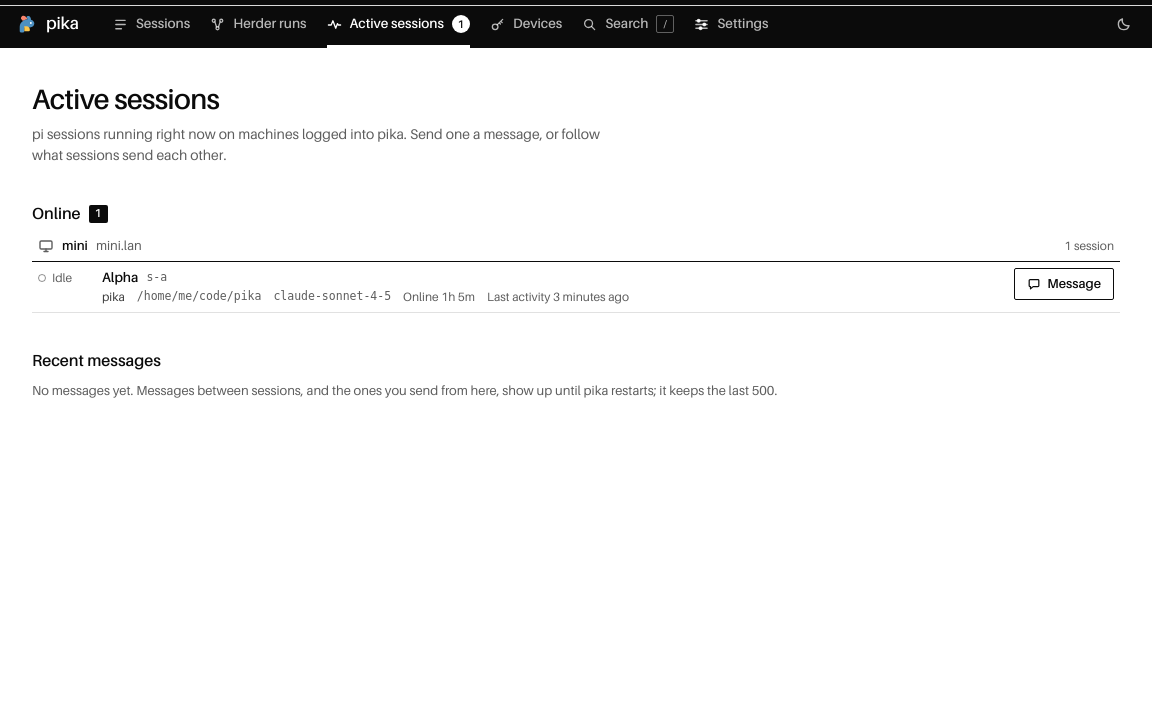
Test: message composer › sends with Ctrl+Enter and shows that the message was delivered
The width and height of the screenshot is (1152, 720).
Click the button with aria-label "Message Alpha" at [1064, 284], box [1014, 268, 1114, 300]
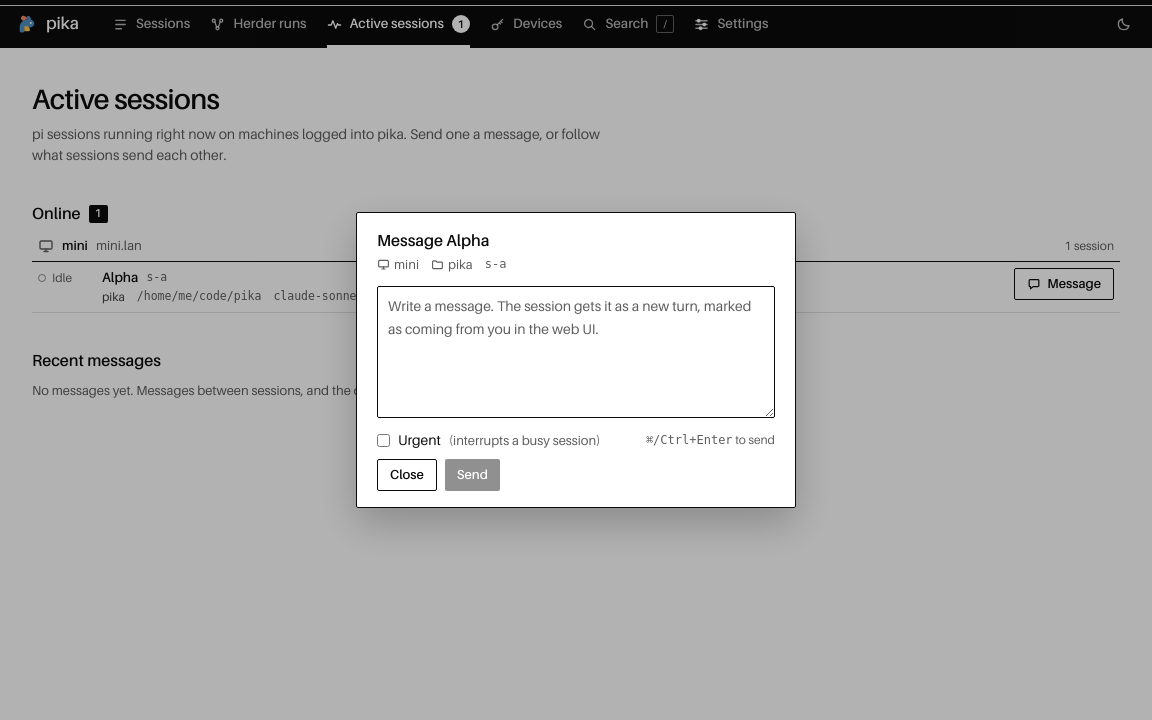
expect the button "Send" is disabled: met, box [445, 459, 500, 491]
Replace the text in the text box named "Message text" with "Please rebase onto main." at [576, 352], box [377, 286, 775, 418]
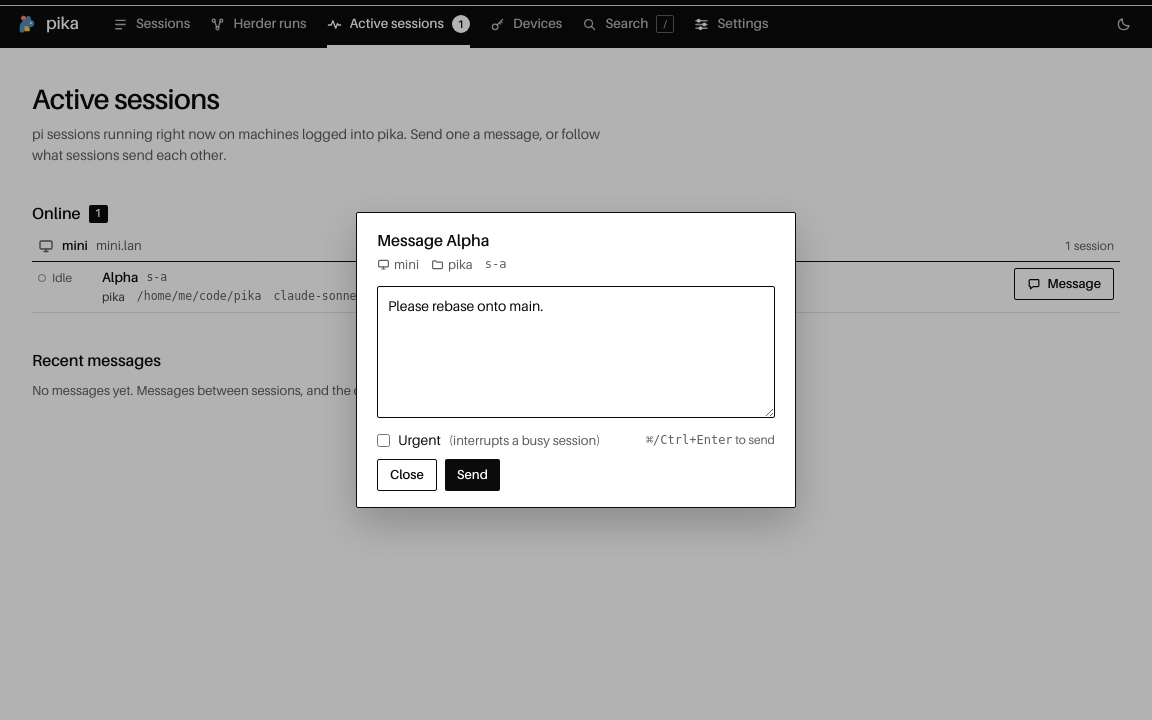
expect the button "Send" is enabled: met, box [445, 459, 500, 491]
Press Enter in the text box named "Message text", box [377, 286, 775, 418]
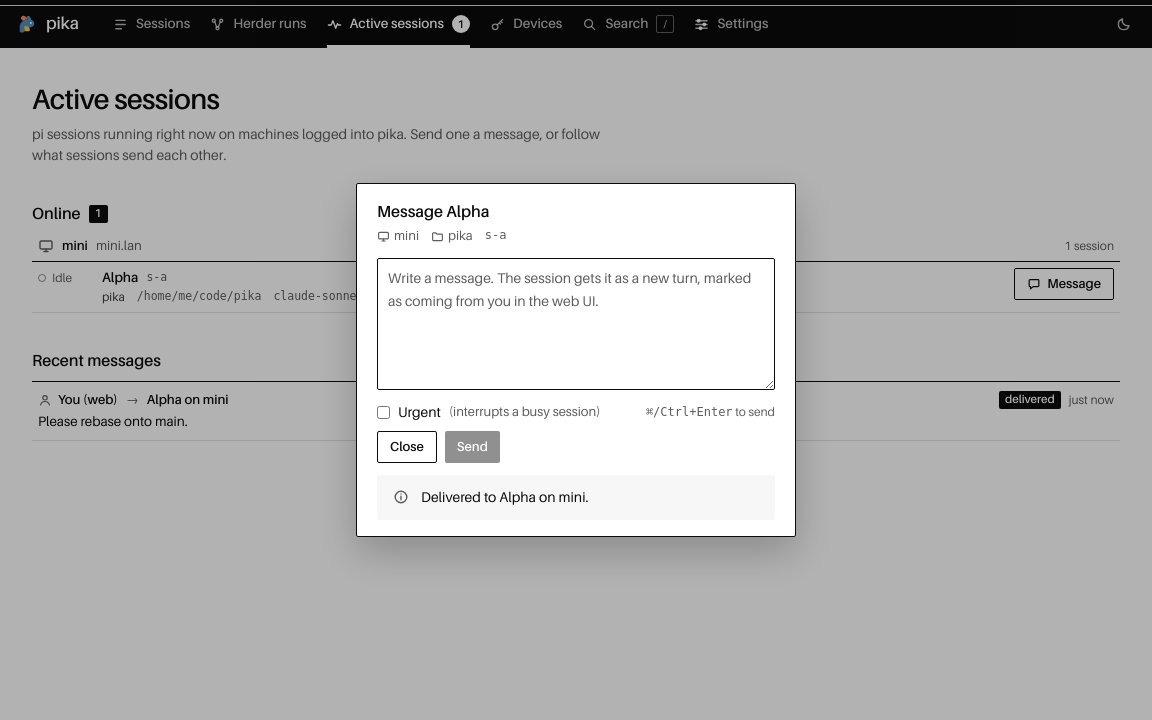
expect the text "Delivered to Alpha on mini." is shown: met, box [377, 475, 775, 520]
expect the text box named "Message text" is empty: met, box [377, 258, 775, 390]
expect the text "You (web)" is shown: met, box [58, 390, 118, 410]
